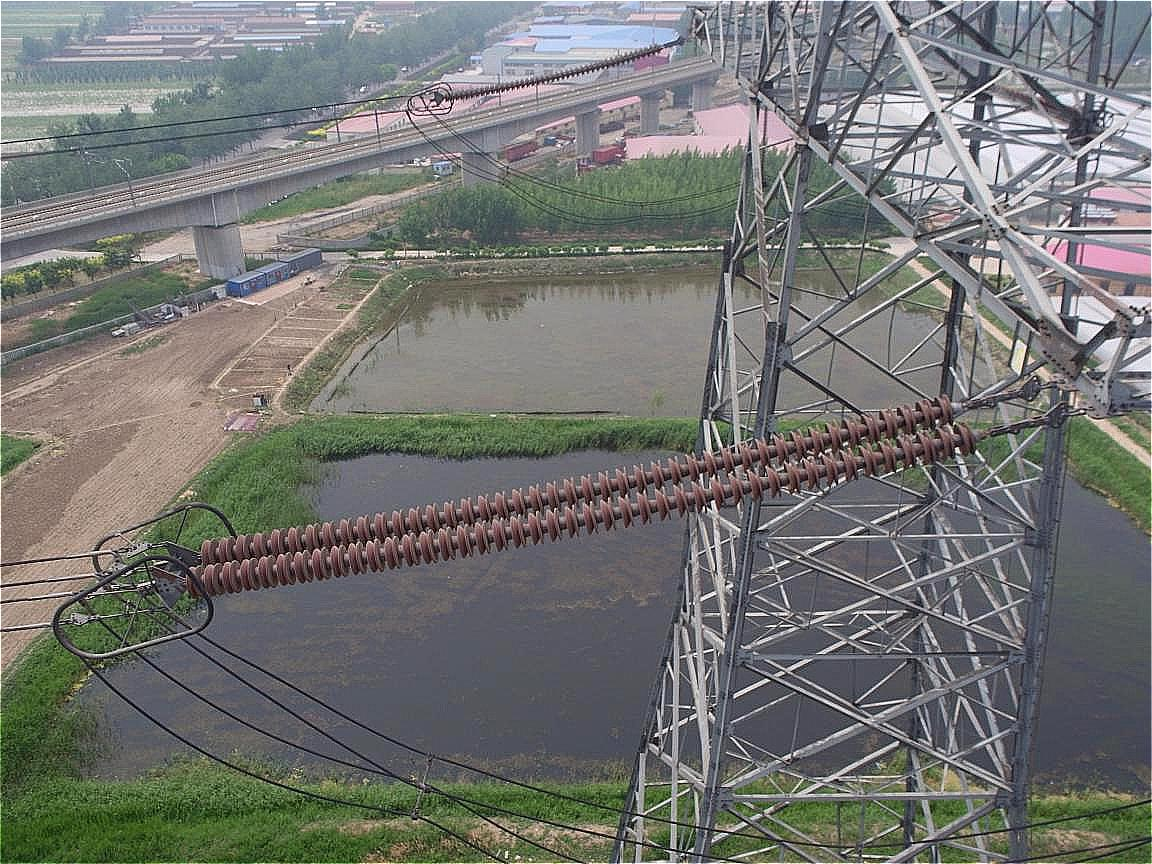insultor1: (446, 41, 662, 104)
insultor2: (187, 393, 978, 598)
